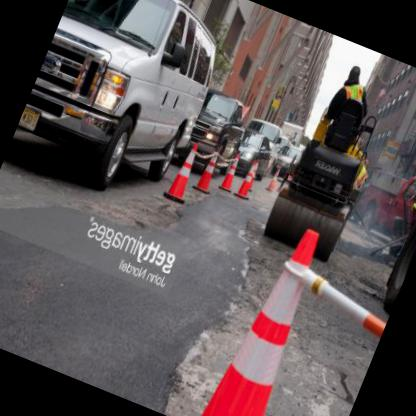cone: (198, 218, 345, 415), (161, 136, 211, 206), (192, 144, 228, 194), (234, 156, 266, 202), (216, 150, 246, 194), (264, 162, 284, 192)
